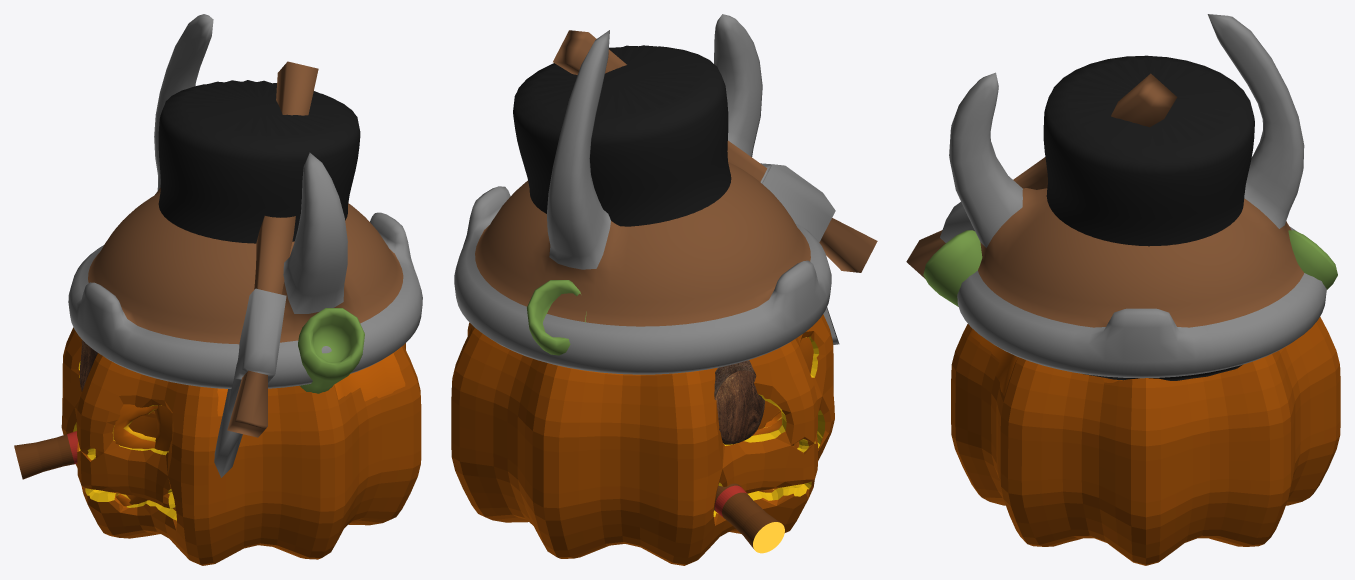
Rendered from PumV2 1.fbx.
The picture shows the model from 3 angles, left to right: view 1: azimuth 30°, elevation 25°; view 2: azimuth 150°, elevation 25°; view 3: azimuth 270°, elevation 25°; orthographic projection. The views are drawn at different scales.
Visible parts, largest first — view 1: Pumkin v5, Helmet, Heap, Axe, Pumkin v4, Pumkin v2, Smoke, Pumkin v3; view 2: Helmet, Pumkin v5, Heap, Axe, Cap, Smoke, Pumkin v4, Pumkin v3; view 3: Pumkin v5, Helmet, Heap, Axe, Pumkin v4, Pumkin v2.
Part boxes in pixels (x1=…): Pumkin v5: x1=61, y1=327, x2=421, y2=565; Helmet: x1=68, y1=14, x2=422, y2=388; Heap: x1=158, y1=80, x2=360, y2=243; Axe: x1=214, y1=61, x2=318, y2=477; Pumkin v4: x1=298, y1=308, x2=364, y2=393; Pumkin v2: x1=102, y1=353, x2=405, y2=506; Smoke: x1=14, y1=431, x2=77, y2=479; Pumkin v3: x1=95, y1=405, x2=175, y2=510; Helmet: x1=454, y1=14, x2=831, y2=374; Pumkin v5: x1=451, y1=314, x2=834, y2=565; Heap: x1=513, y1=45, x2=731, y2=226; Axe: x1=553, y1=30, x2=877, y2=344; Cap: x1=714, y1=360, x2=764, y2=444; Smoke: x1=714, y1=483, x2=784, y2=553; Pumkin v4: x1=527, y1=280, x2=586, y2=355; Pumkin v3: x1=753, y1=337, x2=813, y2=492; Pumkin v5: x1=951, y1=316, x2=1340, y2=565; Helmet: x1=949, y1=14, x2=1326, y2=378; Heap: x1=1043, y1=55, x2=1254, y2=380; Axe: x1=906, y1=73, x2=1177, y2=278; Pumkin v4: x1=923, y1=230, x2=1337, y2=306; Pumkin v2: x1=970, y1=329, x2=1124, y2=396.
Size of the model in its own units: 666 by 879 by 705.
